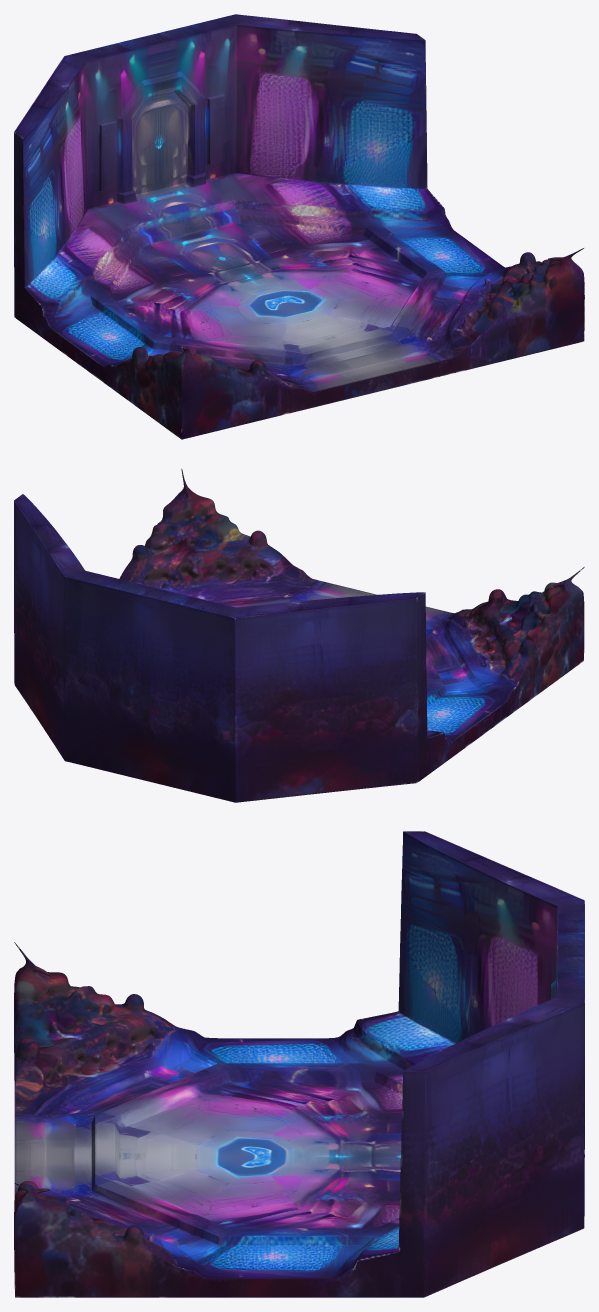
File: base_basic_pbr.glb
3 renders of one model, top to bottom at view 1: azimuth 30°, elevation 25°; view 2: azimuth 150°, elevation 25°; view 3: azimuth 270°, elevation 25°, orthographic. The views are drawn at different scales.
Visible parts, largest first — view 1: model; view 2: model; view 3: model.
Part boxes in pixels (x1,y1,x2,y2): model: (14,14,584,439); model: (14,468,584,802); model: (14,831,584,1297).
Bounding box in the file's own units: 1.9 × 0.8313 × 1.9.
Materials: 1 (1 with a texture image).
